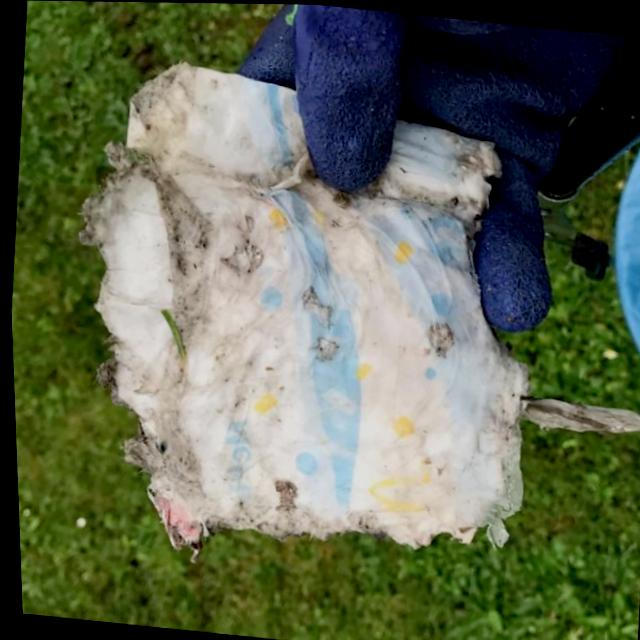Paper: (38, 47, 640, 606)
